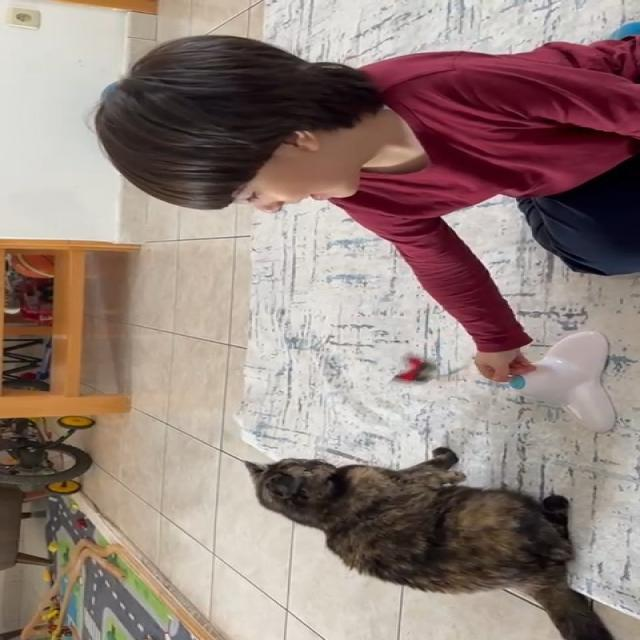authorized: (243, 446, 617, 639)
